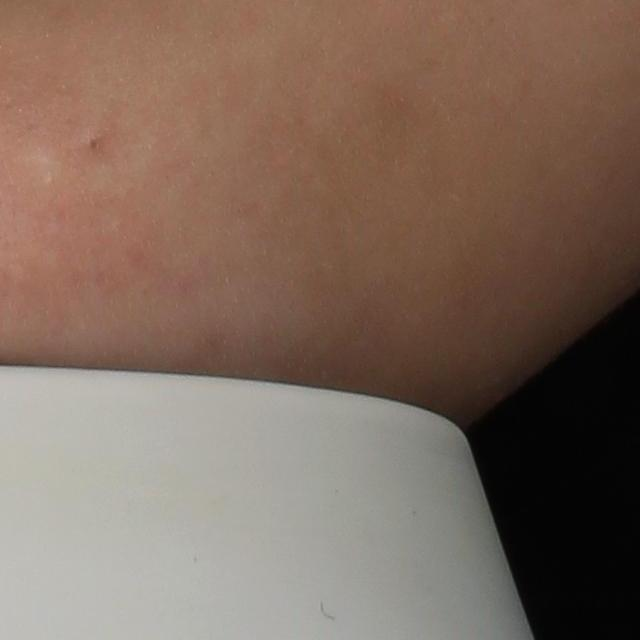comedo: (82, 130, 106, 152)
hypertrophic_scar: (22, 149, 67, 199)
